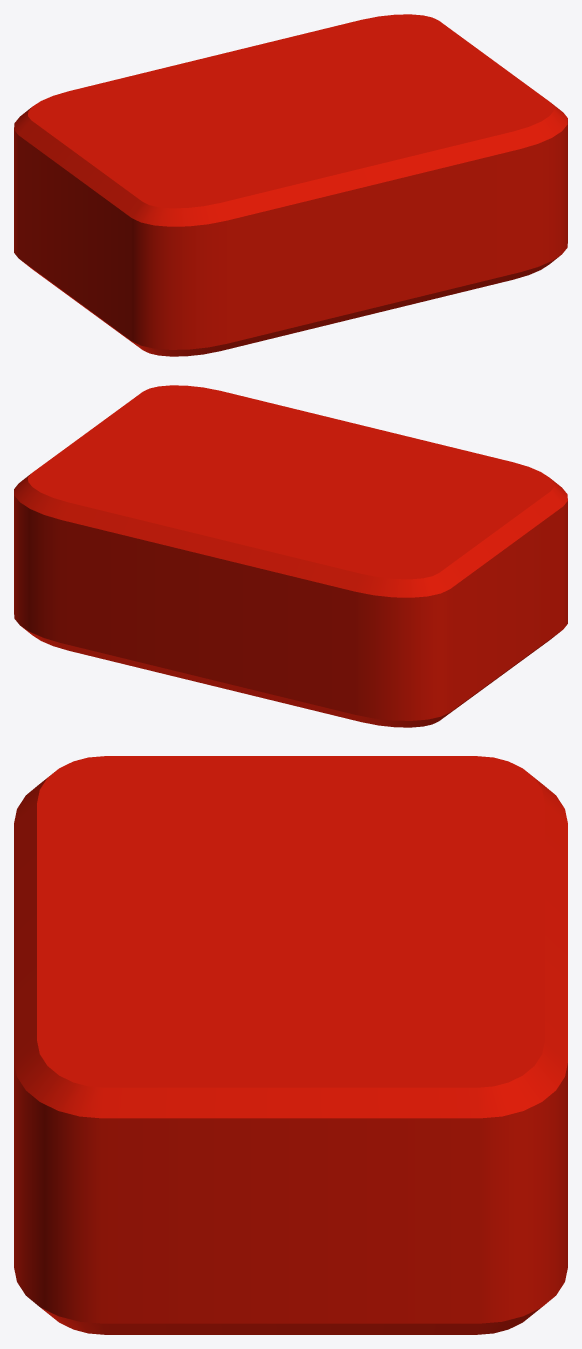
Rendered from mahjong-tile.fbx.
The picture shows the model from 3 angles, top to bottom: view 1: azimuth 30°, elevation 25°; view 2: azimuth 150°, elevation 25°; view 3: azimuth 270°, elevation 25°; orthographic projection. The views are drawn at different scales.
Visible parts, largest first — view 1: Mahjong Piece; view 2: Mahjong Piece; view 3: Mahjong Piece.
Part boxes in pixels (x1,y1,x2,y2): Mahjong Piece: (14, 14, 567, 356); Mahjong Piece: (14, 385, 567, 727); Mahjong Piece: (14, 756, 567, 1334).
Bounding box in the file's own units: 180 × 59.05 × 120.
